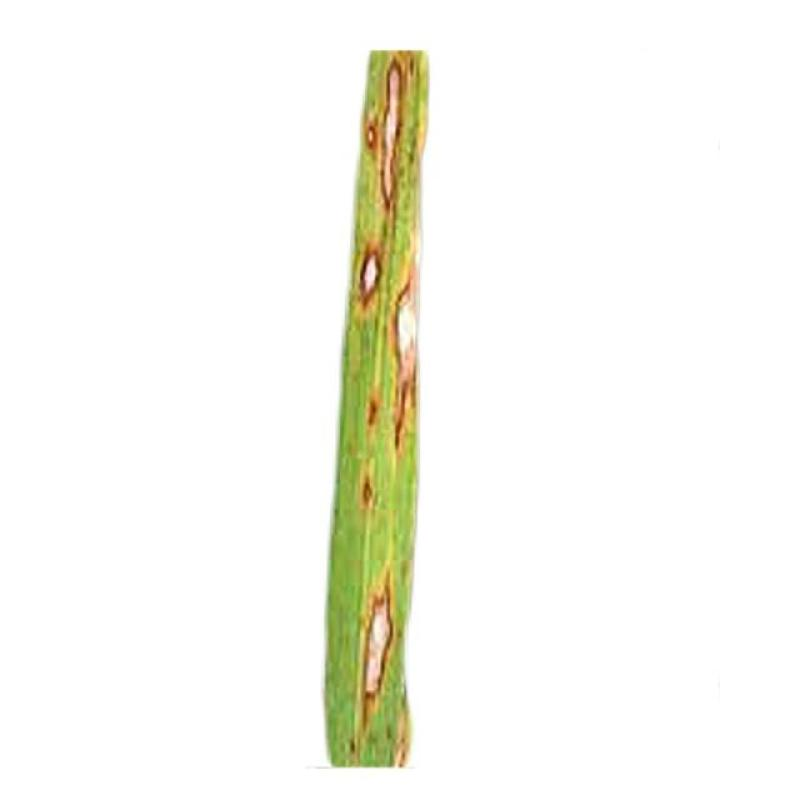Leaf_Blast: (351, 550, 420, 758), (371, 249, 435, 455), (360, 55, 429, 219)
